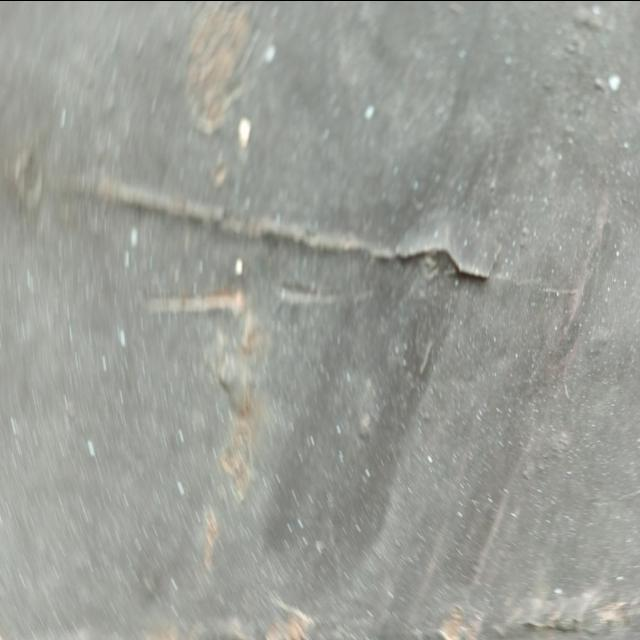Crack: (71, 182, 494, 285)
